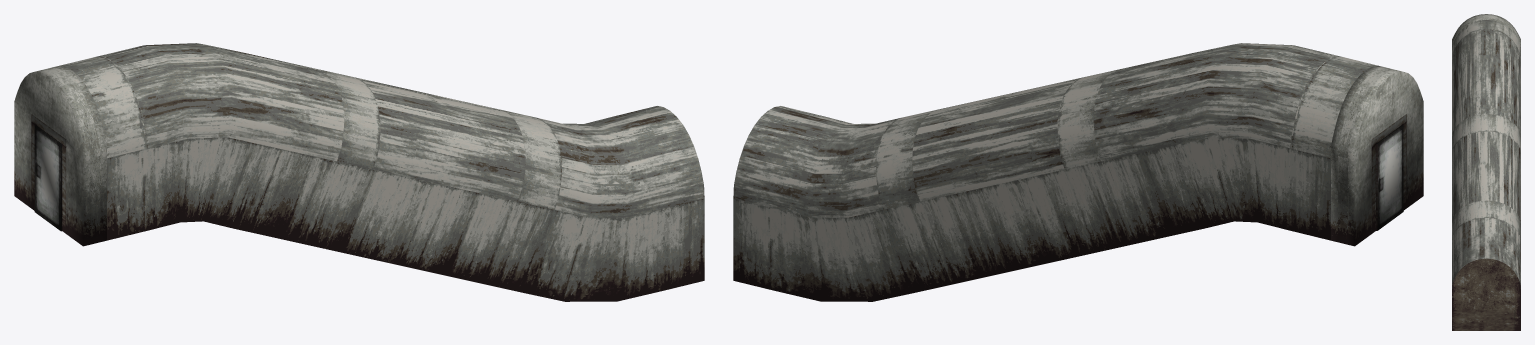
The model's file is SM_EC_ConcreteTunnel_Ramp_Complete_0.fbx.
The picture shows the model from 3 angles, left to right: view 1: azimuth 30°, elevation 25°; view 2: azimuth 150°, elevation 25°; view 3: azimuth 270°, elevation 25°; orthographic projection. The views are drawn at different scales.
Visible parts, largest first — view 1: SM_EC_ConcreteTunnel_Ramp_Complete_0, SM_EC_ContreteTunnel_Door_1; view 2: SM_EC_ConcreteTunnel_Ramp_Complete_0, SM_EC_ContreteTunnel_Door_1; view 3: SM_EC_ConcreteTunnel_Ramp_Complete_0.
Boxes of the visible parts, left/top/right/bottom form: SM_EC_ConcreteTunnel_Ramp_Complete_0: left=14, top=43, right=704, bottom=301; SM_EC_ContreteTunnel_Door_1: left=34, top=125, right=62, bottom=231; SM_EC_ConcreteTunnel_Ramp_Complete_0: left=733, top=43, right=1423, bottom=301; SM_EC_ContreteTunnel_Door_1: left=1376, top=125, right=1403, bottom=230; SM_EC_ConcreteTunnel_Ramp_Complete_0: left=1452, top=14, right=1520, bottom=330.
Size of the model in its own units: 15.68 by 3 by 7.96.
